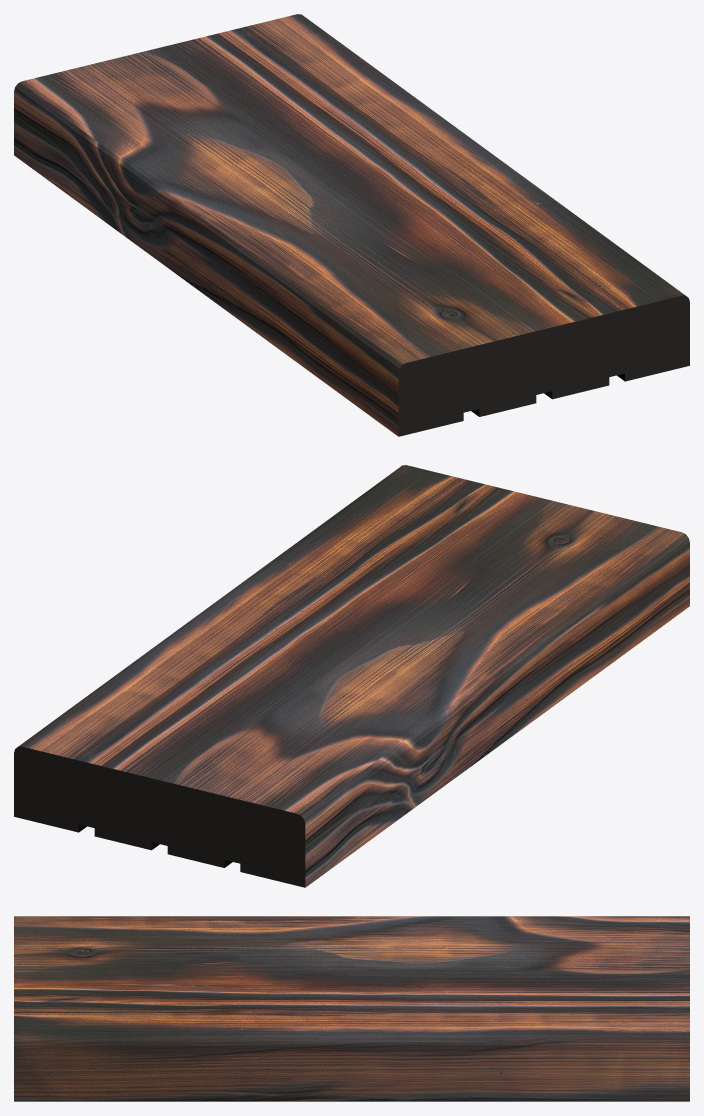
Rendered from larch-terrace-rectangular-natural.glb.
3 renders of one model, top to bottom at view 1: azimuth 30°, elevation 25°; view 2: azimuth 150°, elevation 25°; view 3: azimuth 270°, elevation 25°, orthographic. The views are drawn at different scales.
Parts seen in each view (by area): view 1: Staciakampis; view 2: Staciakampis; view 3: Staciakampis.
Boxes of the visible parts, x1,y1,x2,y2 form: Staciakampis: [14, 14, 689, 436]; Staciakampis: [14, 465, 689, 887]; Staciakampis: [14, 916, 689, 1101].
Bounding box in the file's own units: 0.0733 × 0.0173 × 0.1675.
3 materials, 1 textured.
